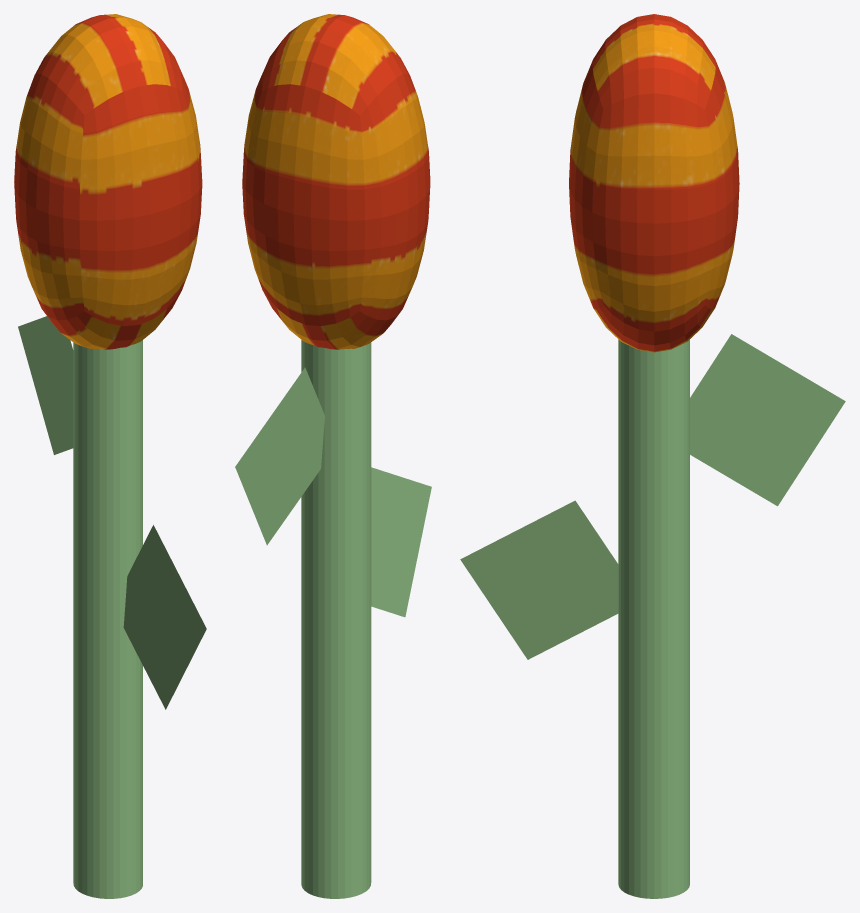
File: Corn.glb
3 views of the same model, side by side, from view 1: azimuth 30°, elevation 25°; view 2: azimuth 150°, elevation 25°; view 3: azimuth 270°, elevation 25° (orthographic).
Parts seen in each view (by area): view 1: Plane; view 2: Plane; view 3: Plane.
Boxes of the visible parts, x1,y1,x2,y2 form: Plane: (14, 14, 206, 898); Plane: (235, 14, 431, 898); Plane: (460, 14, 845, 898).
Bounding box in the file's own units: 1.08 × 5.43 × 2.19.
Materials: 2 (1 with a texture image).
